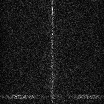wifi: (1, 93, 104, 98)
